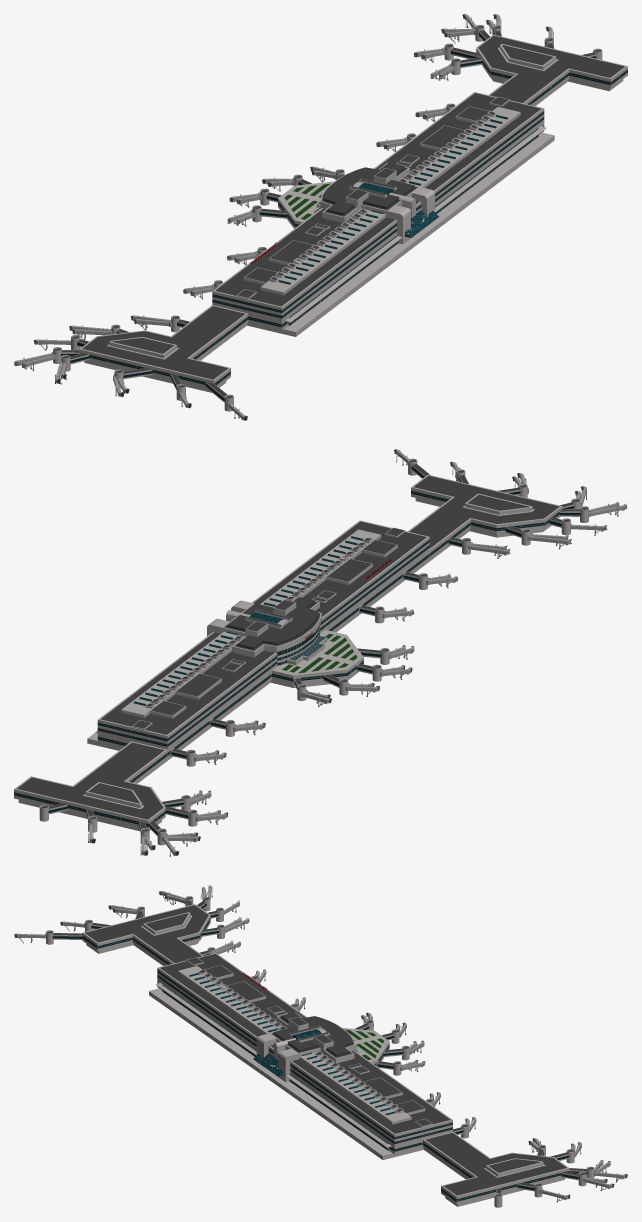
Rendered from RJTTforexport.glb.
The picture shows the model from 3 angles, top to bottom: view 1: azimuth 30°, elevation 25°; view 2: azimuth 210°, elevation 25°; view 3: azimuth 270°, elevation 25°; orthographic projection. The views are drawn at different scales.
Visible parts, largest first — view 1: Plane.001; view 2: Plane.001; view 3: Plane.001.
Part boxes in pixels (box(x1,y1,x2,y2)): Plane.001: box(14, 14, 627, 420); Plane.001: box(14, 449, 626, 856); Plane.001: box(14, 885, 627, 1207).
Bounding box in the file's own units: 858 × 45.39 × 704.
